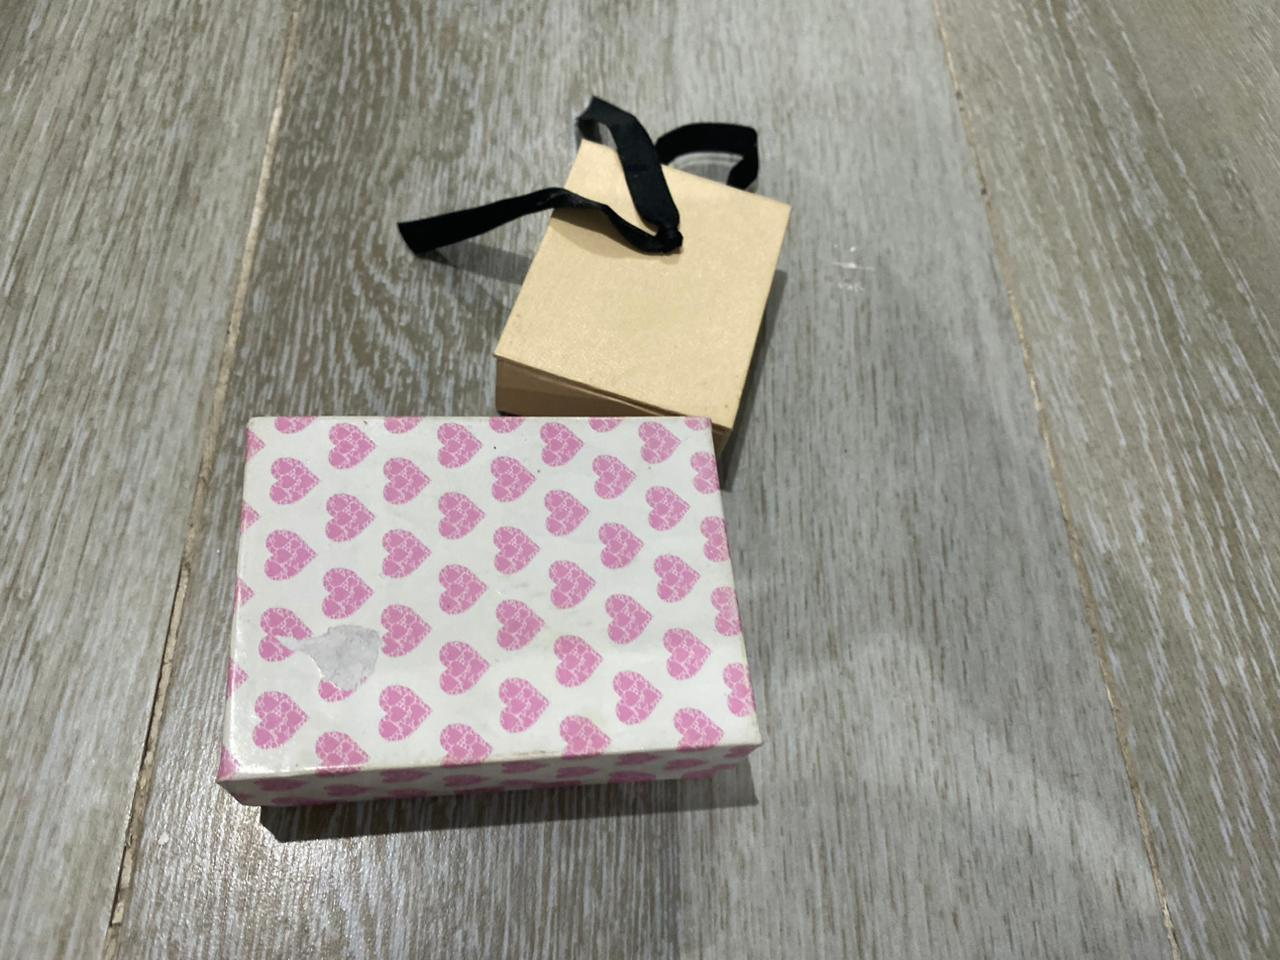Pink Box: (216, 411, 770, 821)
Yellow Box: (481, 134, 791, 440)
